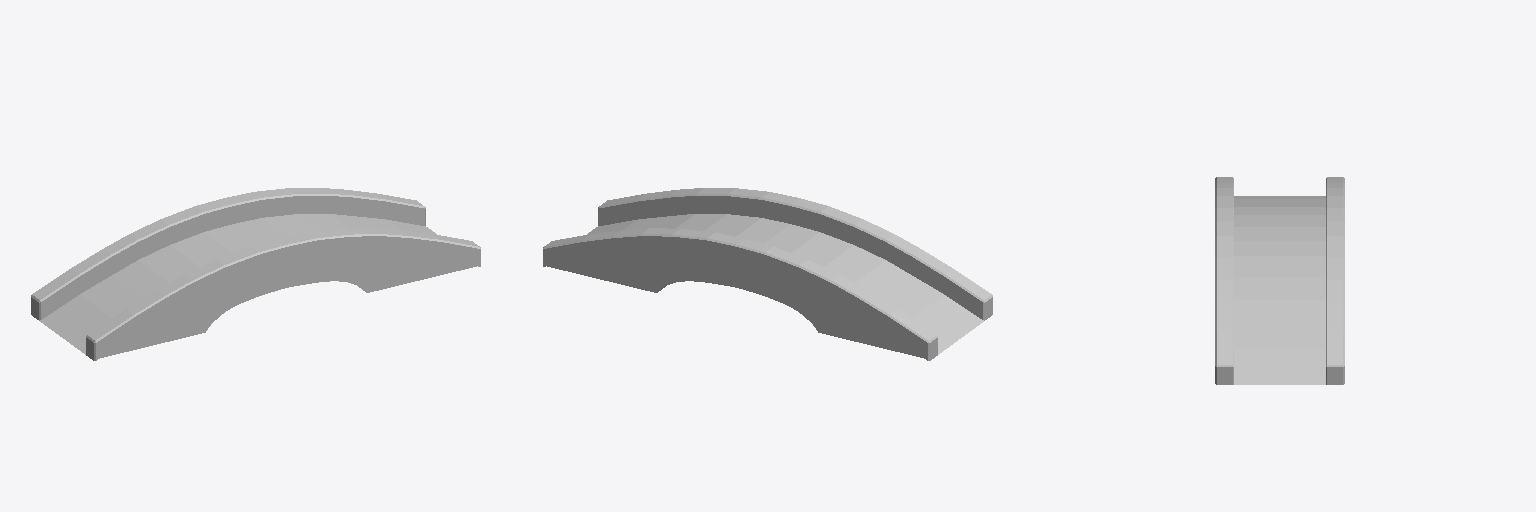
File: Bridge.obj
The picture shows the model from 3 angles: view 1: azimuth 30°, elevation 25°; view 2: azimuth 150°, elevation 25°; view 3: azimuth 270°, elevation 25°; orthographic projection.
Bounding box in the file's own units: 40.53 × 6.94 × 11.77.